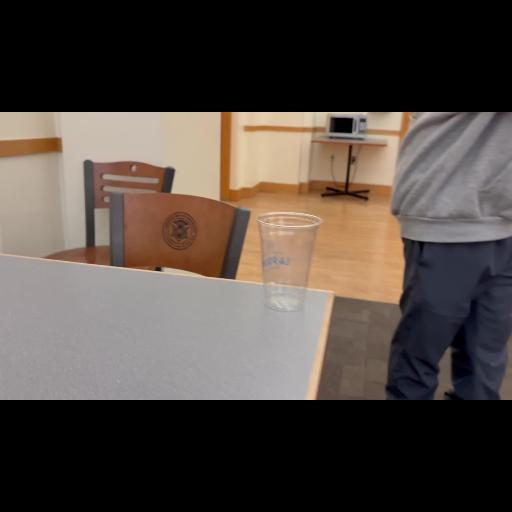lp_plastic_cup: (250, 207, 326, 321)
